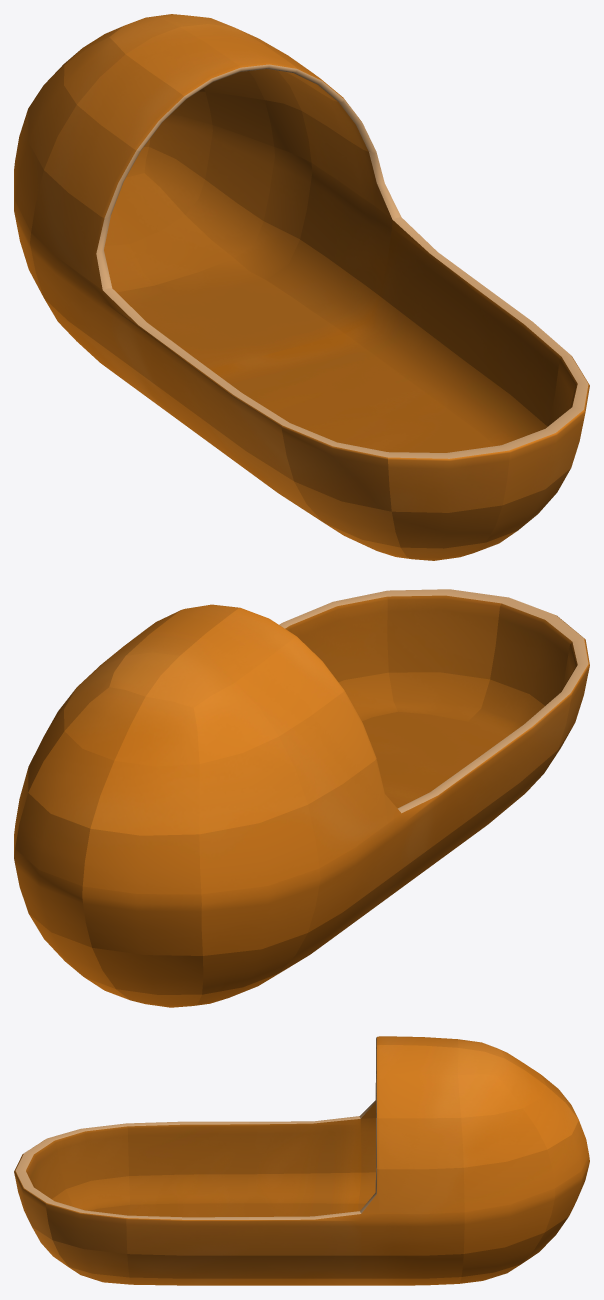
Rendered from MembranaExterna.fbx.
3 views of the same model, one above another, from view 1: azimuth 30°, elevation 25°; view 2: azimuth 150°, elevation 25°; view 3: azimuth 270°, elevation 25° (orthographic). The views are drawn at different scales.
Parts seen in each view (by area): view 1: Mitocondria_Detallada_v2:polySurface2; view 2: Mitocondria_Detallada_v2:polySurface2; view 3: Mitocondria_Detallada_v2:polySurface2.
Boxes of the visible parts, left/top/right/bottom form: Mitocondria_Detallada_v2:polySurface2: left=14, top=14, right=589, bottom=560; Mitocondria_Detallada_v2:polySurface2: left=14, top=589, right=589, bottom=1007; Mitocondria_Detallada_v2:polySurface2: left=14, top=1036, right=589, bottom=1285.
Size of the model in its own units: 26.82 by 29.03 by 65.89.
1 material, 1 textured.
